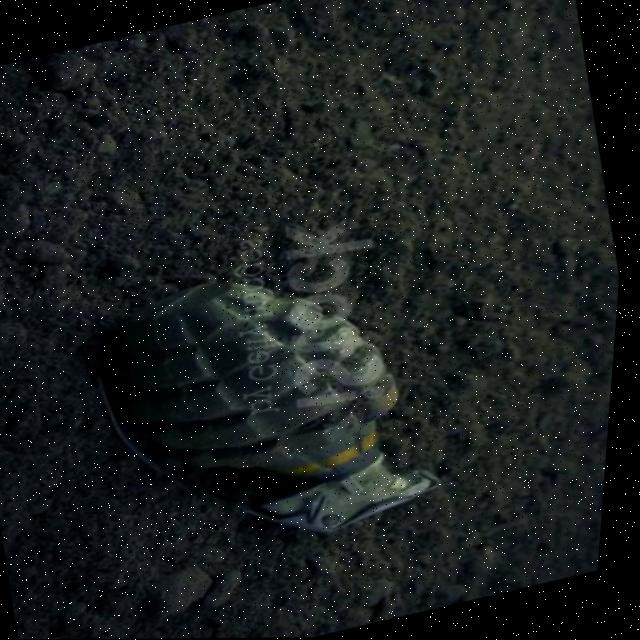grenade: (54, 218, 498, 594)
